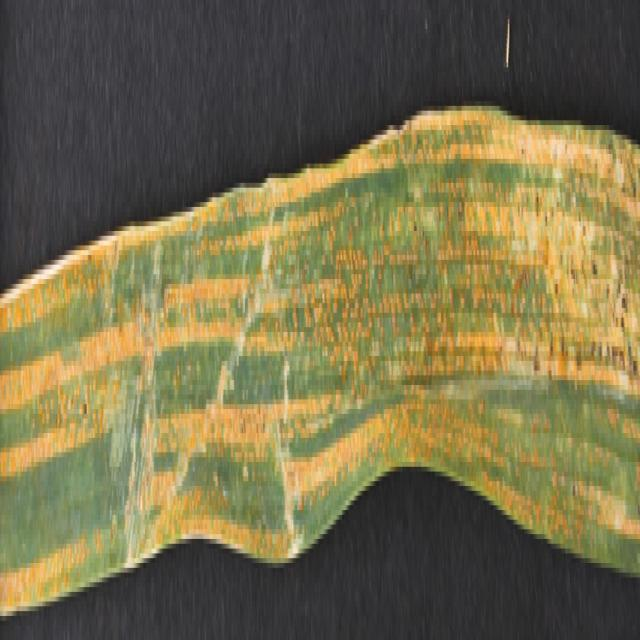leaf rust: (1, 120, 640, 616)
